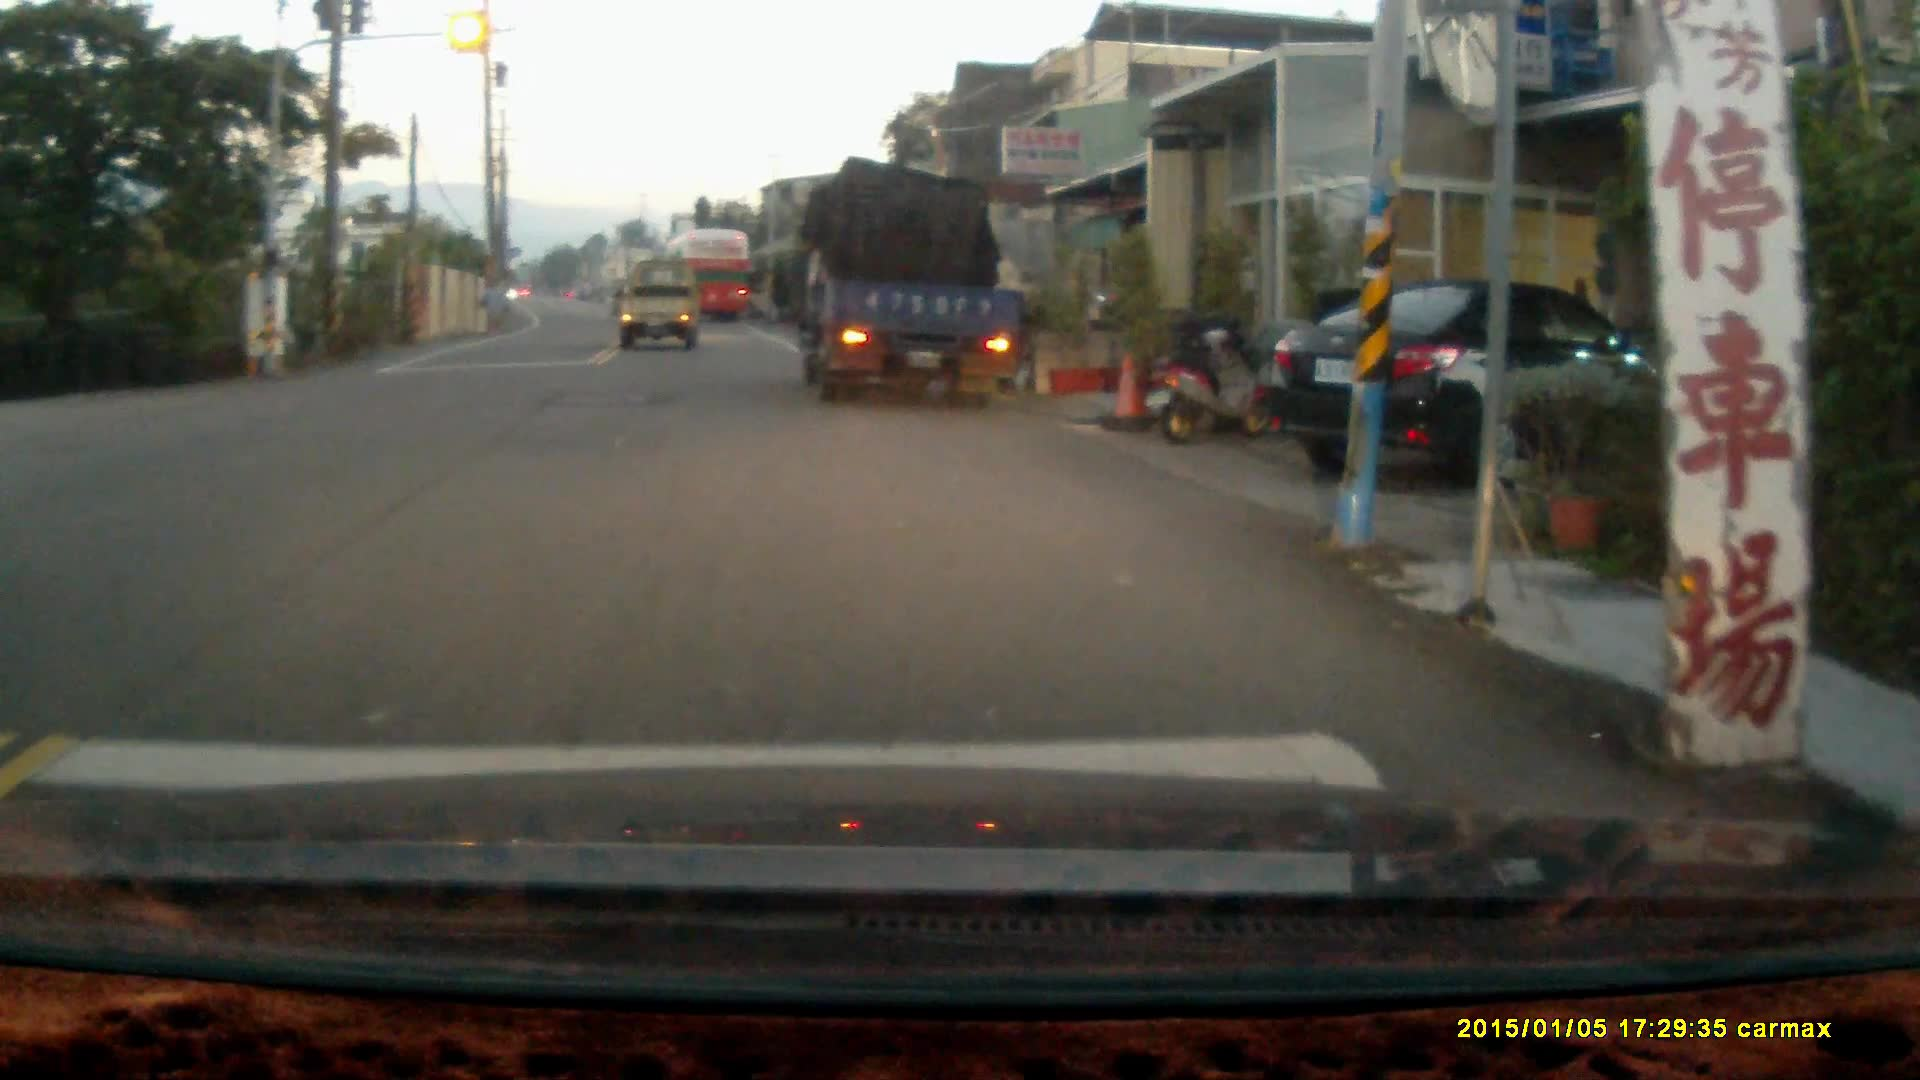vehicle: (1257, 282, 1692, 485), (787, 167, 1029, 404), (665, 233, 760, 334), (618, 265, 700, 349)
